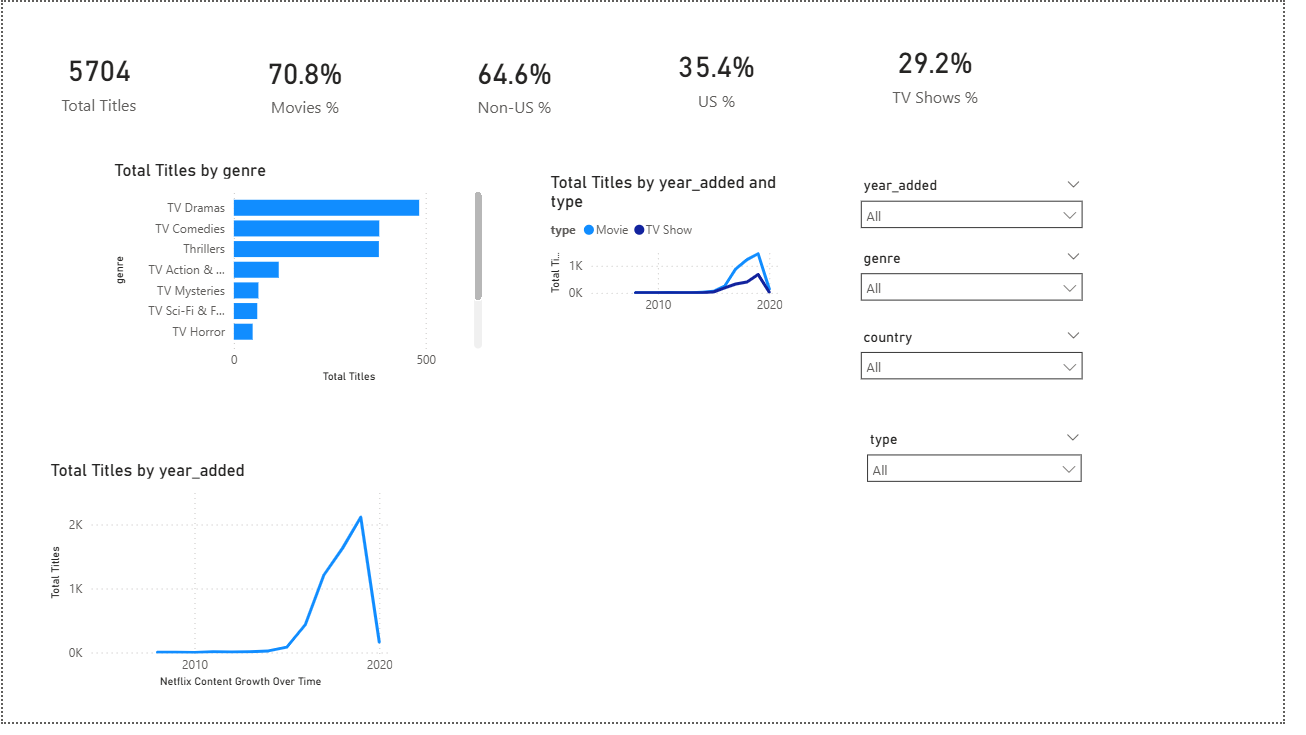

This screenshot's page, from the dashboard's own definition file:
{"tool":"powerbi","page":{"name":"Page 1","canvas":[1280,720],"ordinal":0},"visuals":[{"type":"lineChart","fields":{"Category":["Netflix_Base.year_added"],"Y":["Netflix_Base.Total Titles"]},"box":[42,457,352,233],"z":0},{"type":"clusteredBarChart","fields":{"Y":["Netflix_Base.Total Titles"],"Category":["Genre_Bridge.genre"]},"box":[106,157,378,228],"z":1000},{"type":"card","fields":{"Values":["Netflix_Base.Total Titles"]},"box":[0,16,192,124],"z":2000},{"type":"card","fields":{"Values":["Netflix_Base.Movies %"]},"box":[210,21,184,119],"z":3000},{"type":"card","fields":{"Values":["Netflix_Base.TV Shows %"]},"box":[839,0,187,140],"z":4000},{"type":"card","fields":{"Values":["country_count.US %"]},"box":[616,7,195,133],"z":5000},{"type":"card","fields":{"Values":["country_count.Non-US %"]},"box":[418,21,188,119],"z":6000},{"type":"lineChart","fields":{"Category":["Netflix_Base.year_added"],"Y":["Netflix_Base.Total Titles"],"Series":["Netflix_Base.type"]},"box":[543,170,242,151],"z":7000},{"type":"slicer","fields":{"Values":["Netflix_Base.year_added"]},"box":[847,170,242,65],"z":8000},{"type":"slicer","fields":{"Values":["Genre_Bridge.genre"]},"box":[847,242,242,59],"z":9000},{"type":"slicer","fields":{"Values":["country_count.country"]},"box":[847,321,242,81],"z":10000},{"type":"slicer","fields":{"Values":["Netflix_Base.type"]},"box":[854,424,235,150],"z":11000}]}

Visuals, with their boxes in screenshot pixels (x1, y1, x2, y2), scaled from the page's 1280x720 canvas onto the 1306x735 screenshot:
lineChart - Netflix_Base.year_added x Netflix_Base.Total Titles: {"left": 43, "top": 467, "right": 402, "bottom": 704}
clusteredBarChart - Netflix_Base.Total Titles x Genre_Bridge.genre: {"left": 108, "top": 160, "right": 494, "bottom": 393}
card - Netflix_Base.Total Titles: {"left": 0, "top": 16, "right": 196, "bottom": 143}
card - Netflix_Base.Movies %: {"left": 214, "top": 21, "right": 402, "bottom": 143}
card - Netflix_Base.TV Shows %: {"left": 856, "top": 0, "right": 1047, "bottom": 143}
card - country_count.US %: {"left": 629, "top": 7, "right": 827, "bottom": 143}
card - country_count.Non-US %: {"left": 426, "top": 21, "right": 618, "bottom": 143}
lineChart - Netflix_Base.year_added x Netflix_Base.Total Titles: {"left": 554, "top": 174, "right": 801, "bottom": 328}
slicer - Netflix_Base.year_added: {"left": 864, "top": 174, "right": 1111, "bottom": 240}
slicer - Genre_Bridge.genre: {"left": 864, "top": 247, "right": 1111, "bottom": 307}
slicer - country_count.country: {"left": 864, "top": 328, "right": 1111, "bottom": 410}
slicer - Netflix_Base.type: {"left": 871, "top": 433, "right": 1111, "bottom": 586}
